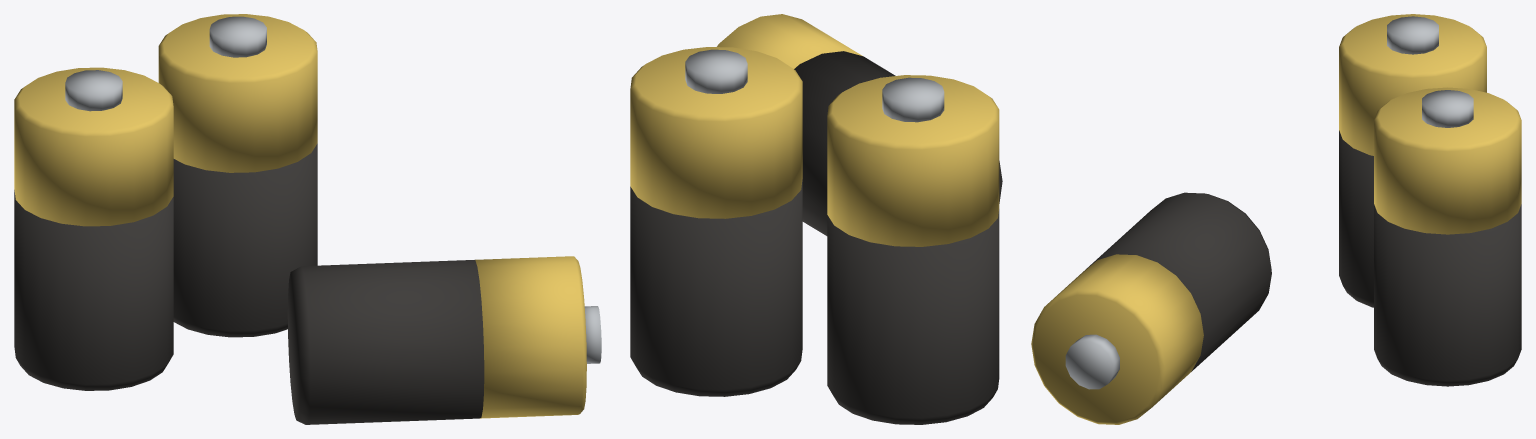
The model's file is batteries.glb.
3 views of the same model, side by side, from view 1: azimuth 30°, elevation 25°; view 2: azimuth 150°, elevation 25°; view 3: azimuth 270°, elevation 25° (orthographic). The views are drawn at different scales.
Parts seen in each view (by area): view 1: cell.002, cell, cell.001, top, top.001, top.002, nub.001, nub, nub.002; view 2: cell.001, cell, top.001, top, cell.002, top.002, nub, nub.001; view 3: cell.001, top.002, top.001, cell.002, top, cell, nub.002, nub, nub.001.
Boxes of the visible parts, box(x1,y1,x2,y2) form: cell.002: box(287, 260, 484, 424); cell: box(14, 190, 173, 390); cell.001: box(173, 143, 317, 337); top: box(14, 67, 173, 226); top.001: box(158, 14, 317, 172); top.002: box(475, 256, 586, 418); nub.001: box(209, 16, 266, 57); nub: box(65, 70, 122, 111); nub.002: box(584, 306, 601, 363); cell.001: box(630, 179, 802, 396); cell: box(827, 209, 999, 424); top.001: box(630, 47, 802, 218); top: box(827, 75, 999, 246); cell.002: box(794, 51, 1002, 235); top.002: box(717, 14, 862, 68); nub: box(882, 77, 944, 122); nub.001: box(685, 49, 747, 93); cell.001: box(1374, 204, 1521, 386); top.002: box(1031, 254, 1203, 424); top.001: box(1374, 87, 1521, 234); cell.002: box(1083, 192, 1271, 371); top: box(1339, 14, 1486, 155); cell: box(1339, 130, 1373, 307); nub.002: box(1065, 334, 1119, 389); nub: box(1387, 16, 1438, 54); nub.001: box(1422, 90, 1473, 127).
Size of the model in its own units: 0.101 by 0.0655 by 0.1128.
